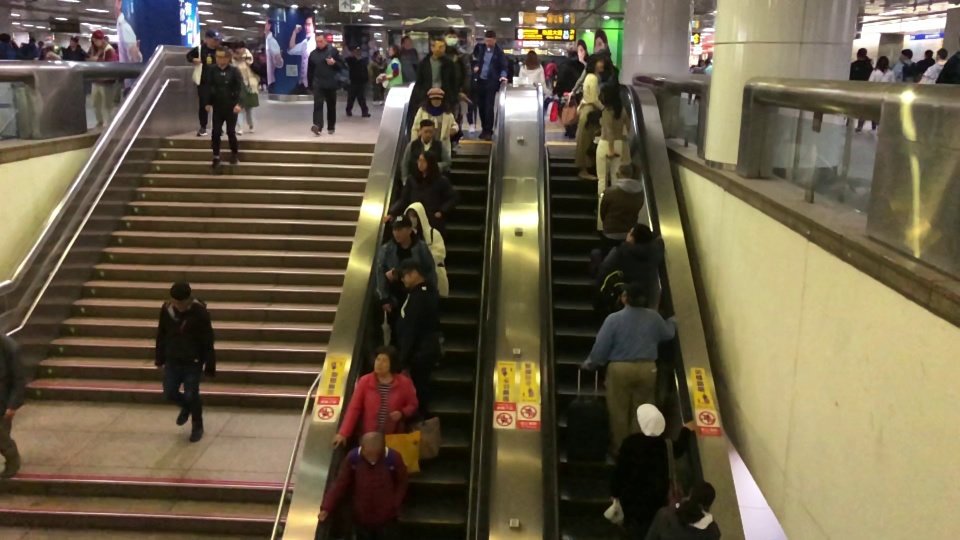person_head: (370, 344, 399, 373), (357, 431, 385, 459), (688, 480, 715, 508), (637, 412, 666, 436), (620, 285, 647, 307), (169, 282, 192, 307), (625, 223, 651, 243), (415, 151, 436, 173), (391, 222, 412, 241), (400, 266, 418, 287), (586, 53, 604, 72), (418, 119, 435, 139), (604, 86, 620, 106), (429, 35, 446, 53), (616, 164, 634, 180), (443, 26, 458, 45), (215, 46, 230, 64), (407, 208, 419, 226), (483, 30, 497, 45), (400, 35, 414, 49), (314, 32, 327, 46), (525, 50, 538, 64), (429, 92, 442, 106), (875, 56, 889, 69), (898, 48, 913, 60), (205, 34, 219, 46), (234, 43, 247, 55), (936, 47, 947, 60), (856, 47, 867, 59), (0, 32, 11, 43), (388, 45, 399, 56), (69, 36, 79, 48), (92, 33, 101, 45), (567, 50, 578, 59), (353, 46, 361, 56), (924, 49, 933, 57), (373, 51, 380, 59), (28, 37, 36, 43), (705, 58, 711, 65)
person_vbox: (585, 286, 678, 458), (606, 412, 697, 533), (153, 282, 217, 444), (317, 432, 408, 540), (331, 344, 419, 452), (391, 266, 443, 379), (598, 224, 665, 309), (382, 151, 457, 226), (203, 46, 247, 172), (376, 222, 438, 311), (595, 86, 631, 236), (645, 480, 721, 540), (469, 30, 509, 141), (599, 164, 644, 258), (405, 207, 451, 297), (0, 330, 27, 481), (305, 31, 344, 135), (574, 54, 604, 180), (185, 34, 220, 136), (401, 119, 451, 185), (410, 92, 459, 156), (85, 33, 118, 128), (417, 35, 458, 103), (231, 42, 259, 135), (555, 50, 583, 139), (845, 47, 872, 133), (442, 26, 471, 98), (344, 46, 371, 118), (62, 36, 92, 100), (519, 49, 551, 96), (379, 45, 403, 99), (368, 50, 386, 106), (921, 47, 947, 84), (400, 35, 419, 81), (936, 50, 959, 85), (893, 48, 914, 83), (915, 48, 934, 83), (868, 56, 890, 82), (19, 36, 41, 59), (0, 32, 16, 59), (704, 59, 711, 75)
